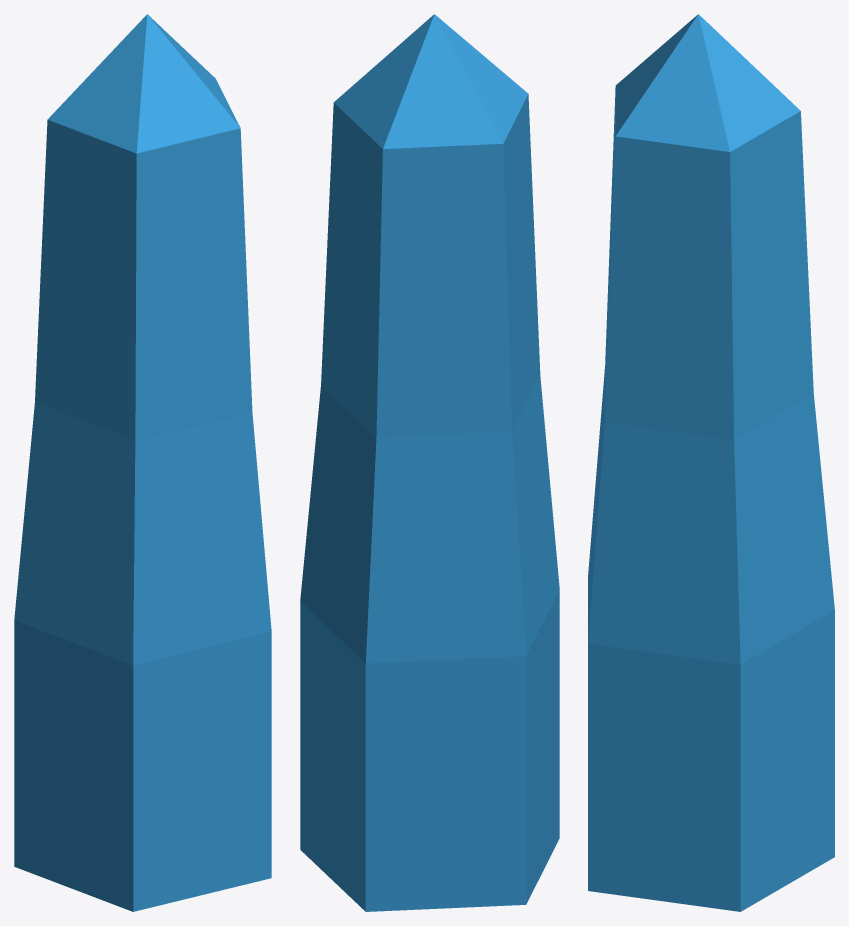
The model's file is crystal.fbx.
3 views of the same model, side by side, from view 1: azimuth 30°, elevation 25°; view 2: azimuth 150°, elevation 25°; view 3: azimuth 270°, elevation 25° (orthographic).
Visible parts, largest first — view 1: Cylinder; view 2: Cylinder; view 3: Cylinder.
Boxes of the visible parts, x1,y1,x2,y2 form: Cylinder: [14, 14, 271, 911]; Cylinder: [300, 14, 559, 911]; Cylinder: [588, 14, 834, 911].
Size of the model in its own units: 190 by 682 by 181.
